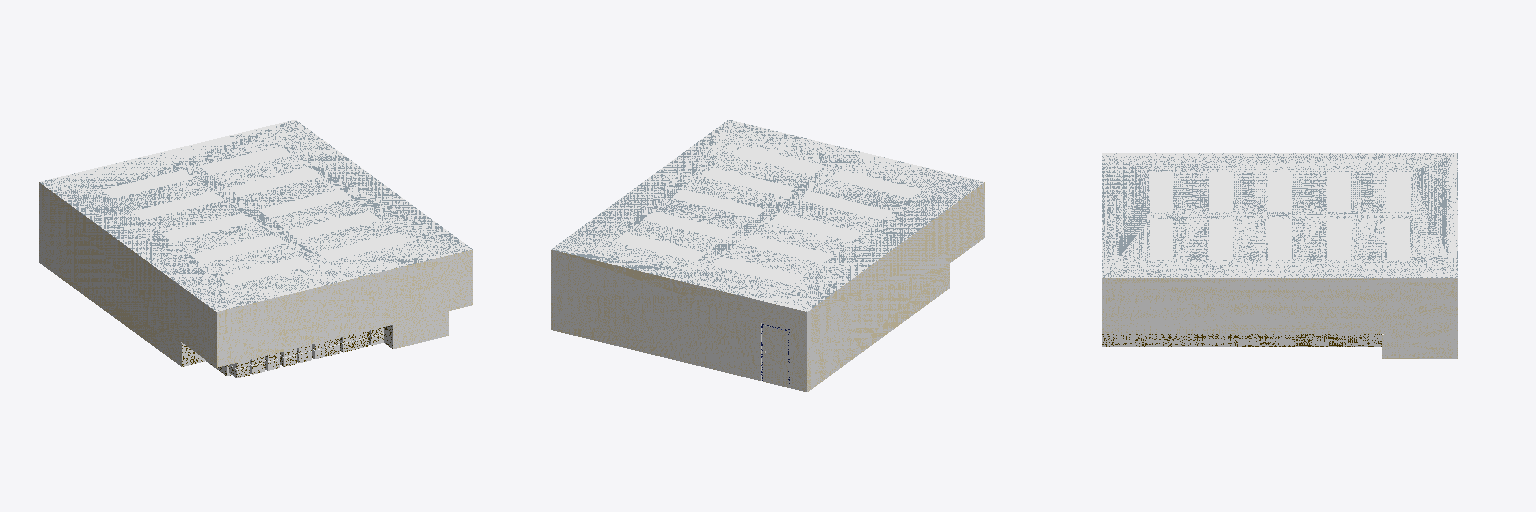
Rendered from Room_Final.obj.
3 renders of one model, left to right at view 1: azimuth 30°, elevation 25°; view 2: azimuth 150°, elevation 25°; view 3: azimuth 270°, elevation 25°, orthographic.
Visible parts, largest first — view 1: Mesh2 Model; view 2: Mesh2 Model; view 3: Mesh2 Model.
Boxes of the visible parts, box(x1,y1,x2,y2) form: Mesh2 Model: box(39, 120, 472, 377); Mesh2 Model: box(551, 120, 984, 391); Mesh2 Model: box(1102, 153, 1457, 358).
Size of the model in its own units: 10 by 3 by 12.